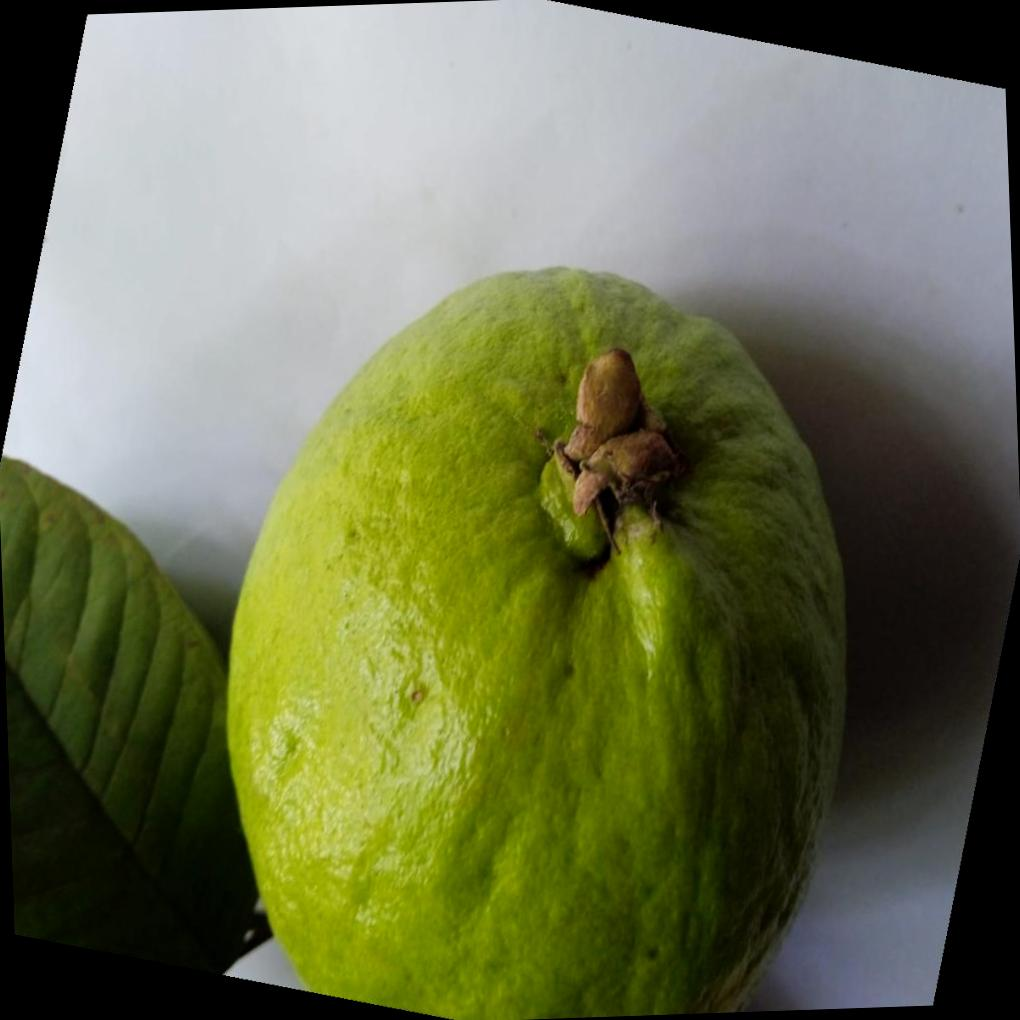FreshGuava: (222, 268, 849, 1020)
